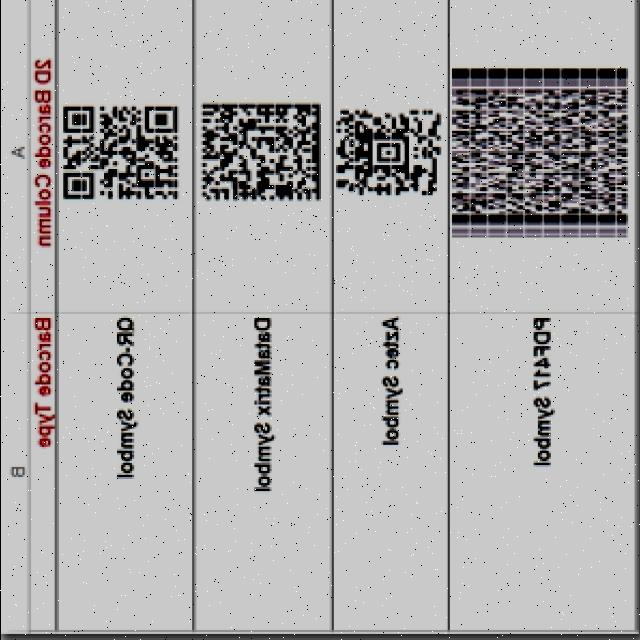datamatrix: (198, 99, 324, 207)
